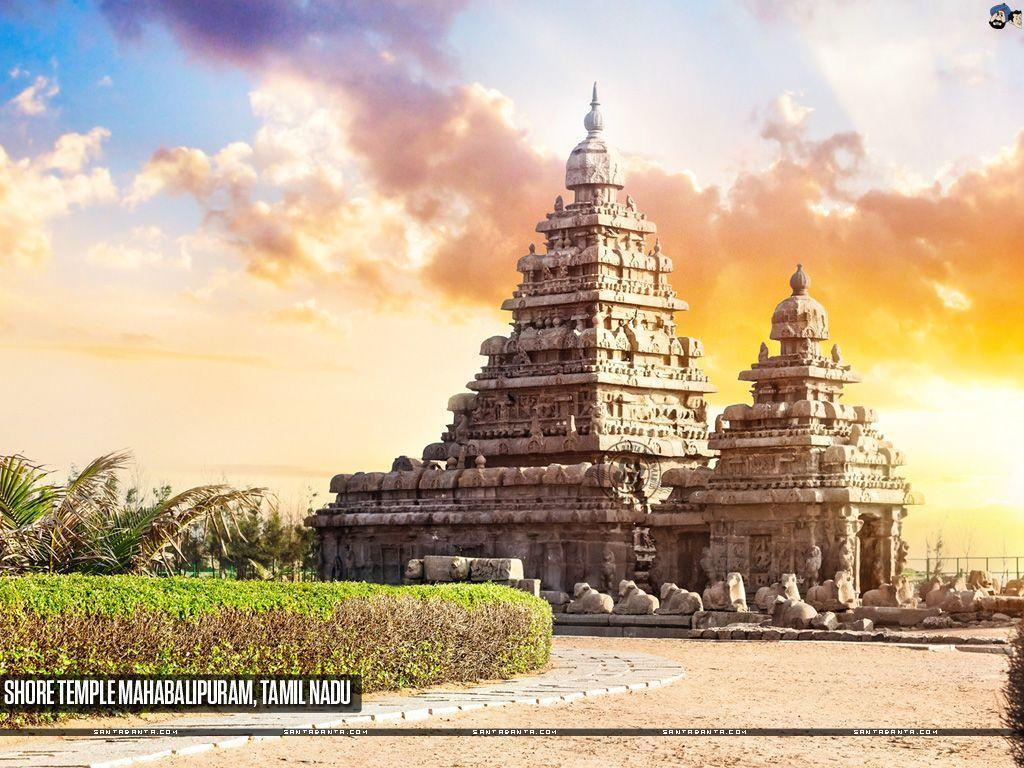Temple: (447, 95, 722, 515), (713, 266, 920, 571)
